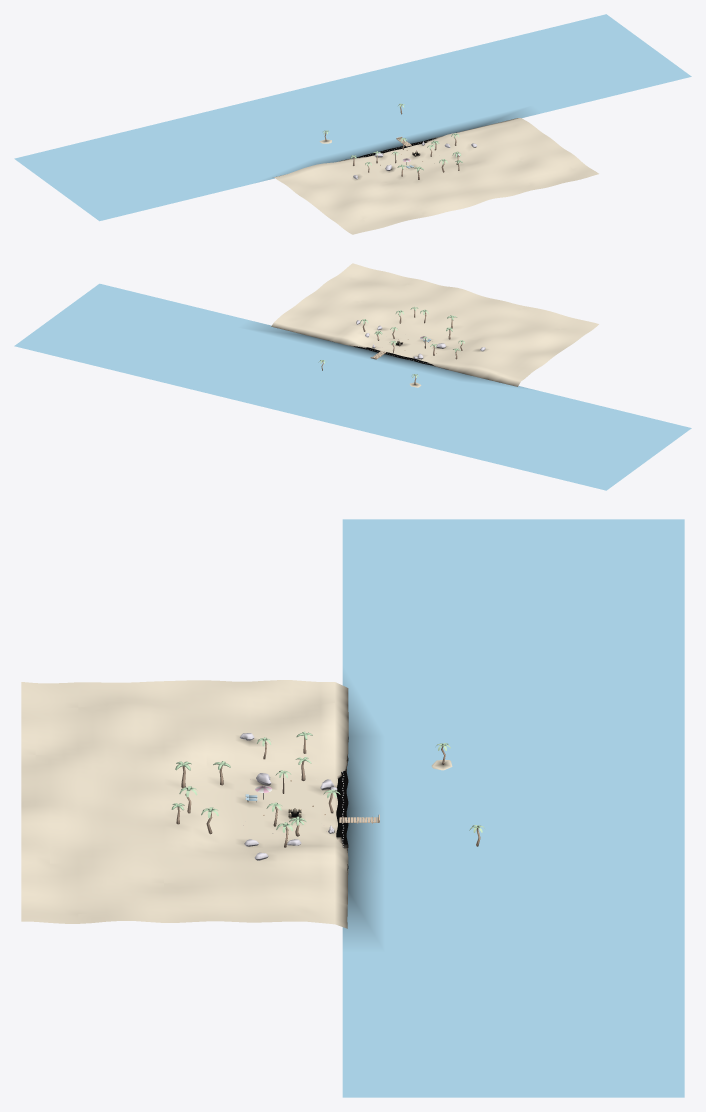
File: env-sea-kingdom.glb
3 views of the same model, one above another, from view 1: azimuth 30°, elevation 25°; view 2: azimuth 150°, elevation 25°; view 3: azimuth 270°, elevation 25° (orthographic). The views are drawn at different scales.
Visible parts, largest first — view 1: water.001, static_sand; view 2: water.001, static_sand; view 3: water.001, static_sand, static_leaf, static_trunk.
Boxes of the visible parts, box(x1,y1,x2,y2) form: water.001: box(14, 14, 691, 221); static_sand: box(273, 118, 598, 234); water.001: box(14, 283, 691, 490); static_sand: box(271, 263, 598, 387); water.001: box(342, 519, 684, 1097); static_sand: box(21, 680, 452, 928); static_leaf: box(171, 731, 484, 832); static_trunk: box(176, 736, 480, 847).
Bounding box in the file's own units: 240 × 7.47 × 116.
